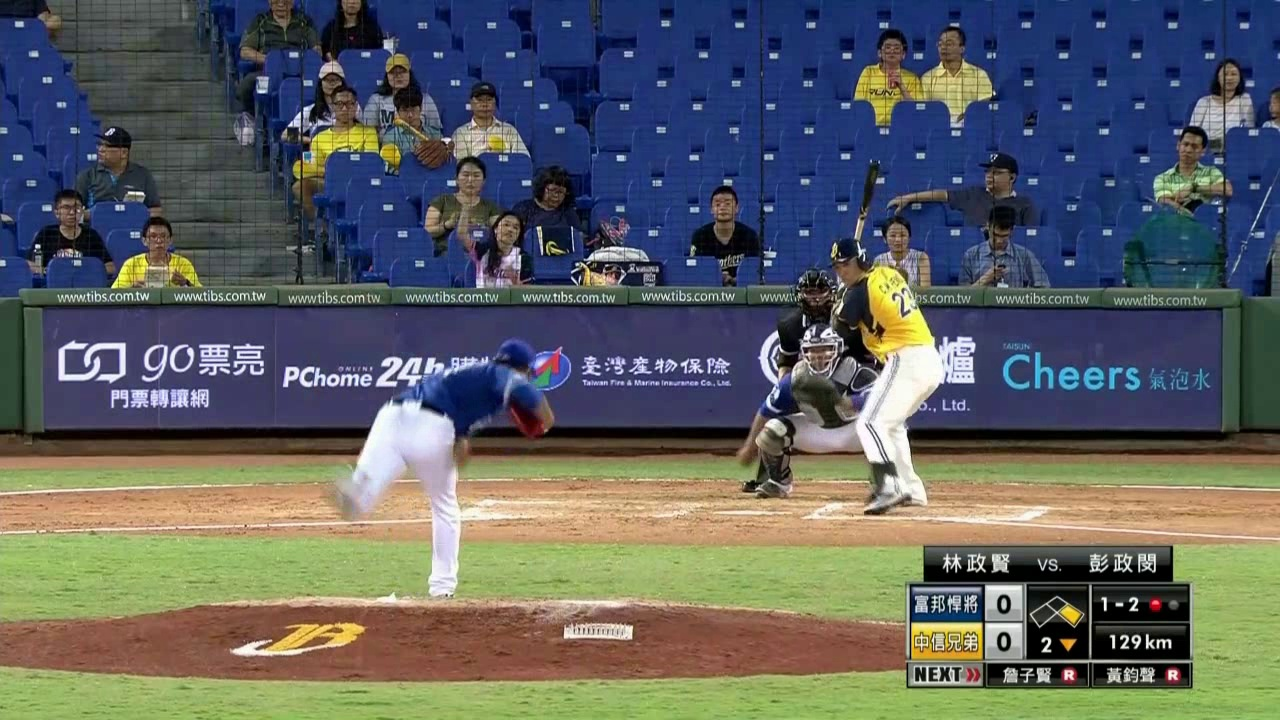ball: (596, 275, 613, 293)
base: (1024, 592, 1086, 627)
bat: (835, 155, 883, 291)
out: (1145, 587, 1183, 619)
score1: (987, 588, 1022, 618)
score2: (986, 625, 1021, 660)
session: (1027, 630, 1084, 661)
speed: (1093, 628, 1181, 656)
strikeball: (1093, 588, 1143, 619)
